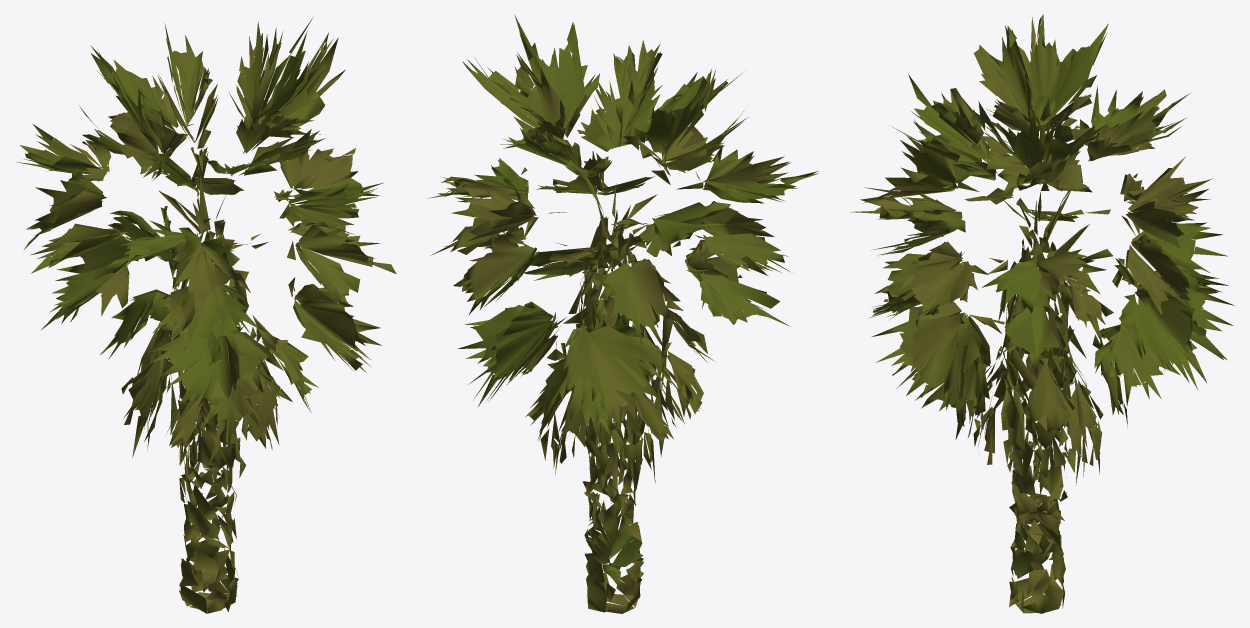
File: fanpalm.glb
3 renders of one model, left to right at view 1: azimuth 30°, elevation 25°; view 2: azimuth 150°, elevation 25°; view 3: azimuth 270°, elevation 25°, orthographic.
Parts seen in each view (by area): view 1: LO.001; view 2: LO.001; view 3: LO.001.
Part boxes in pixels (left/top/right/bottom): LO.001: left=16, top=16, right=396, bottom=613; LO.001: left=427, top=15, right=819, bottom=613; LO.001: left=850, top=14, right=1234, bottom=613.
Bounding box in the file's own units: 0.6391 × 0.9782 × 0.6175.
1 material, 1 textured.
